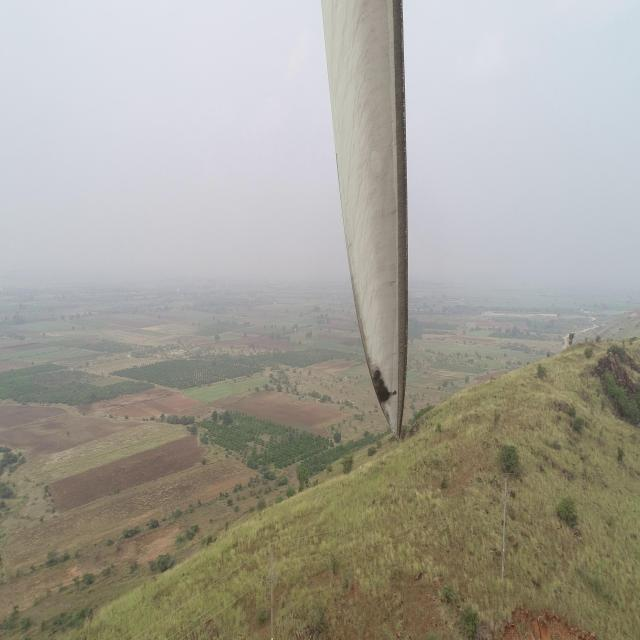Dirt: (319, 0, 410, 440)
Oil LEAKAGE: (369, 370, 395, 406)
Pin Hole: (391, 388, 400, 401)
